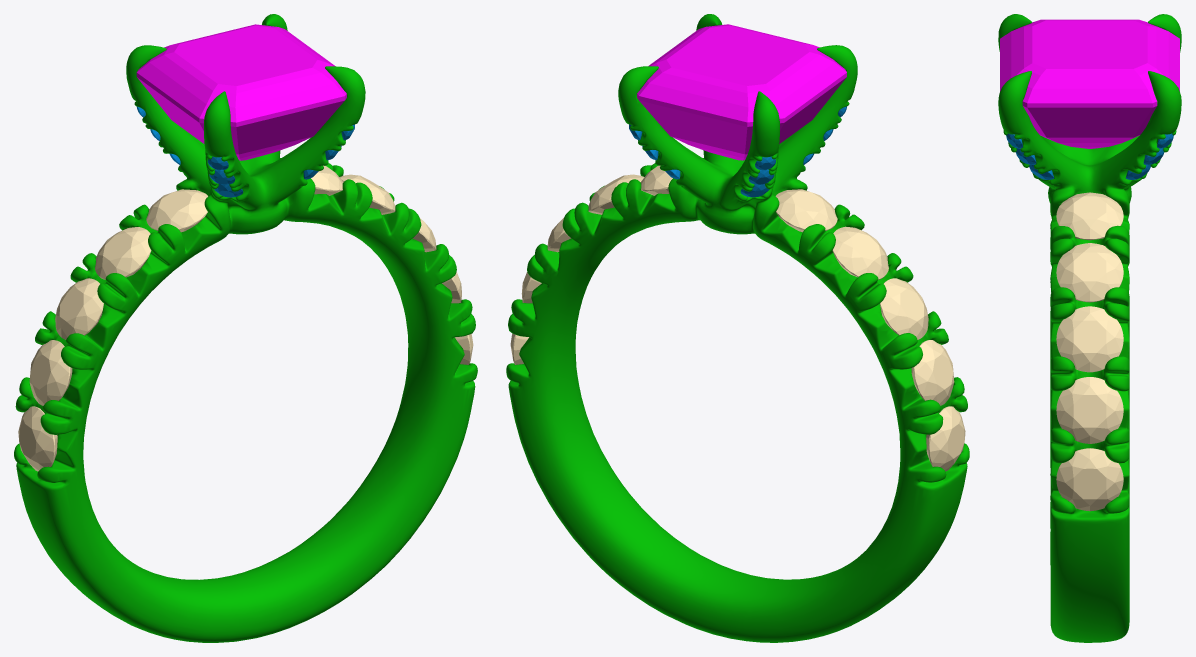
The model's file is BE1D8721P_AS_200ct_RENDER.glb.
3 views of the same model, side by side, from view 1: azimuth 30°, elevation 25°; view 2: azimuth 150°, elevation 25°; view 3: azimuth 270°, elevation 25° (orthographic).
Parts seen in each view (by area): view 1: Metal 01, CS_Diamond_Asscher, Diamond_Round_Gem_SH.002, Diamond_Round_Gem_SH.003, Diamond_Round_Gem_SH.001, Diamond_Round_Gem_SH.004, Diamond_Round_Gem_SH, Diamond_Round_Gem_SH.006, Diamond_Round_Gem_SH.005; view 2: Metal 01, CS_Diamond_Asscher, Diamond_Round_Gem_SH.002, Diamond_Round_Gem_SH.003, Diamond_Round_Gem_SH.001, Diamond_Round_Gem_SH.004, Diamond_Round_Gem_SH, Diamond_Round_Gem_SH.006, Diamond_Round_Gem_SH.005; view 3: Metal 01, CS_Diamond_Asscher, Diamond_Round_Gem_SH.008, Diamond_Round_Gem_SH.007, Diamond_Round_Gem_SH.009, Diamond_Round_Gem_SH.006, Diamond_Round_Gem_SH.005.
Part boxes in pixels (x1,y1,x2,y2): Metal 01: (14, 14, 477, 642); CS_Diamond_Asscher: (136, 24, 346, 160); Diamond_Round_Gem_SH.002: (55, 278, 103, 339); Diamond_Round_Gem_SH.003: (95, 227, 151, 279); Diamond_Round_Gem_SH.001: (29, 340, 72, 405); Diamond_Round_Gem_SH.004: (146, 189, 207, 232); Diamond_Round_Gem_SH: (18, 406, 57, 471); Diamond_Round_Gem_SH.006: (339, 174, 395, 214); Diamond_Round_Gem_SH.005: (311, 165, 343, 195); Metal 01: (506, 14, 969, 642); CS_Diamond_Asscher: (637, 24, 846, 160); Diamond_Round_Gem_SH.002: (880, 278, 928, 339); Diamond_Round_Gem_SH.003: (832, 226, 888, 279); Diamond_Round_Gem_SH.001: (911, 340, 954, 405); Diamond_Round_Gem_SH.004: (775, 189, 837, 232); Diamond_Round_Gem_SH: (926, 406, 965, 471); Diamond_Round_Gem_SH.006: (588, 174, 644, 214); Diamond_Round_Gem_SH.005: (640, 165, 672, 195); Metal 01: (998, 14, 1181, 642); CS_Diamond_Asscher: (1000, 19, 1179, 148); Diamond_Round_Gem_SH.008: (1056, 377, 1123, 443); Diamond_Round_Gem_SH.007: (1056, 306, 1123, 372); Diamond_Round_Gem_SH.009: (1056, 448, 1123, 511); Diamond_Round_Gem_SH.006: (1056, 243, 1123, 302); Diamond_Round_Gem_SH.005: (1056, 192, 1123, 240).
Bounding box in the file's own units: 21.12 × 26.44 × 7.65.
